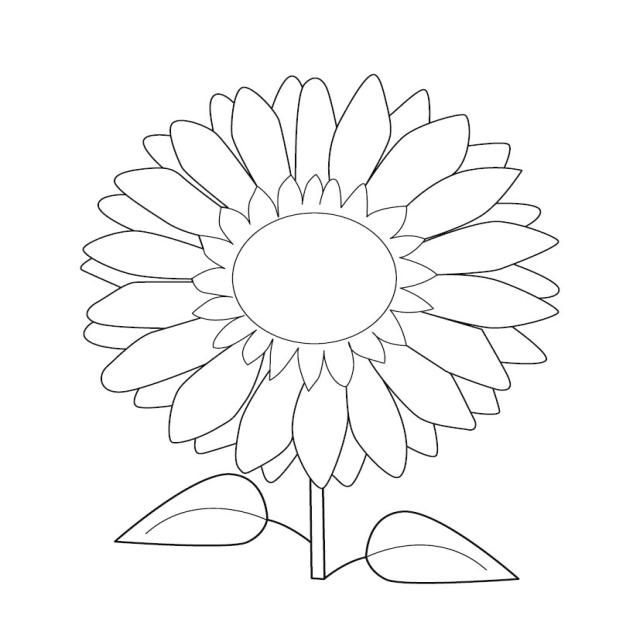sunflower: (80, 72, 560, 492)
